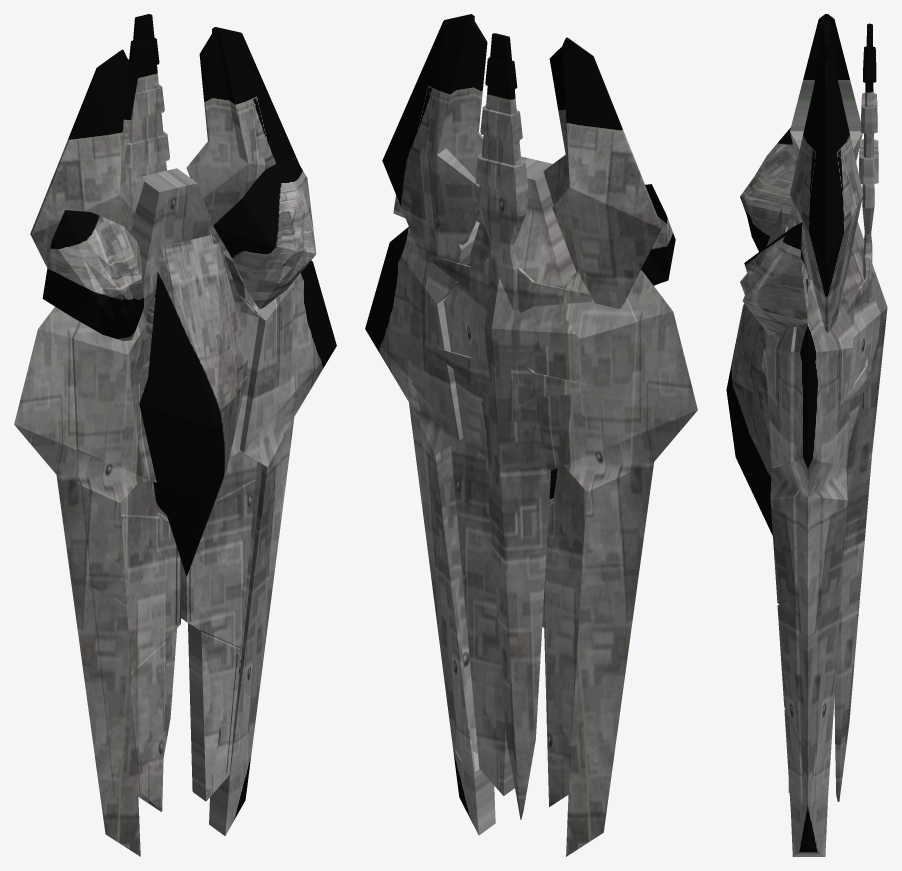
The model's file is wing_open.fbx.
The picture shows the model from 3 angles, left to right: view 1: azimuth 30°, elevation 25°; view 2: azimuth 150°, elevation 25°; view 3: azimuth 270°, elevation 25°; orthographic projection. The views are drawn at different scales.
Visible parts, largest first — view 1: hane:hane:polySurface20; view 2: hane:hane:polySurface20; view 3: hane:hane:polySurface20.
Boxes of the visible parts, x1,y1,x2,y2 form: hane:hane:polySurface20: [14, 14, 336, 856]; hane:hane:polySurface20: [365, 14, 697, 856]; hane:hane:polySurface20: [726, 14, 887, 856].
Bounding box in the file's own units: 3.97 × 9.43 × 1.7.
1 material, 1 textured.
